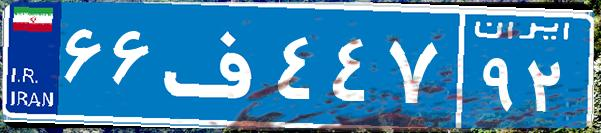2: (525, 38, 570, 115)
4: (273, 28, 330, 110), (330, 28, 385, 110)
6: (57, 26, 110, 107), (110, 28, 158, 105)
7: (385, 28, 445, 110)
9: (475, 38, 525, 113)
ف: (158, 15, 273, 115)
